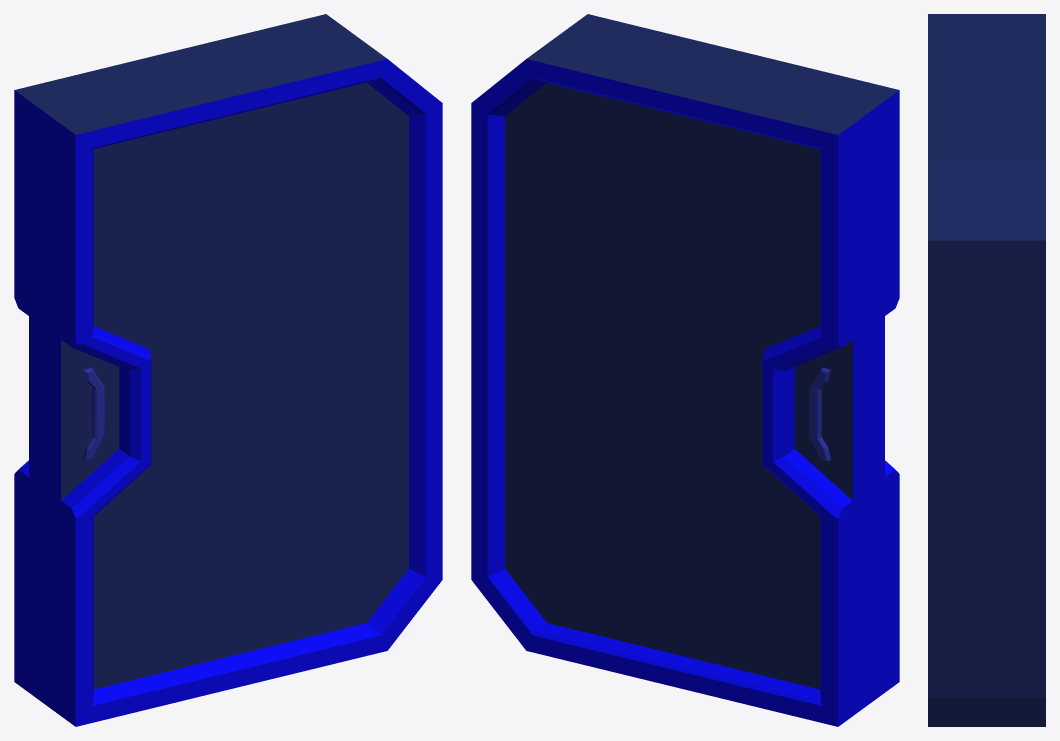
Rendered from tuer.glb.
The picture shows the model from 3 angles, left to right: view 1: azimuth 30°, elevation 25°; view 2: azimuth 150°, elevation 25°; view 3: azimuth 270°, elevation 25°; orthographic projection. The views are drawn at different scales.
Visible parts, largest first — view 1: Cube; view 2: Cube; view 3: Cube.
Part boxes in pixels (bbox=[...]): Cube: bbox=[14, 14, 442, 726]; Cube: bbox=[471, 14, 899, 726]; Cube: bbox=[928, 14, 1045, 726].
Bounding box in the file's own units: 3 × 4.63 × 0.8699.
Materials: 1 (1 with a texture image).
